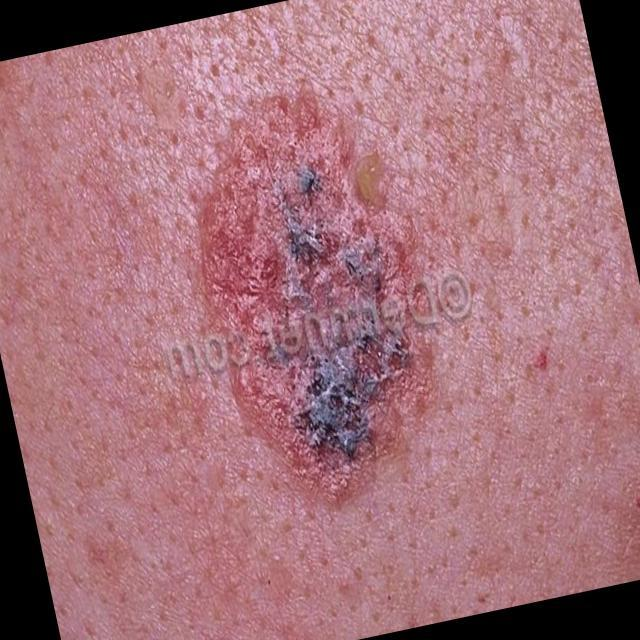Eczema: (150, 85, 440, 505)
